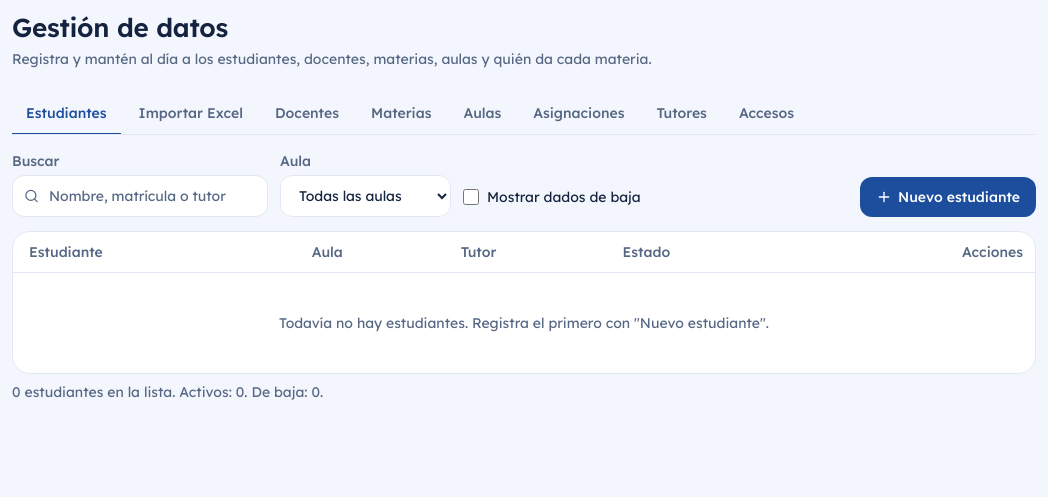
Test: Materias › muestra en cuántas aulas se da cada una y oculta las archivadas
This screenshot has width=1048, height=497.
Click the tab "Materias": x=401, y=114 [357,92,446,134]
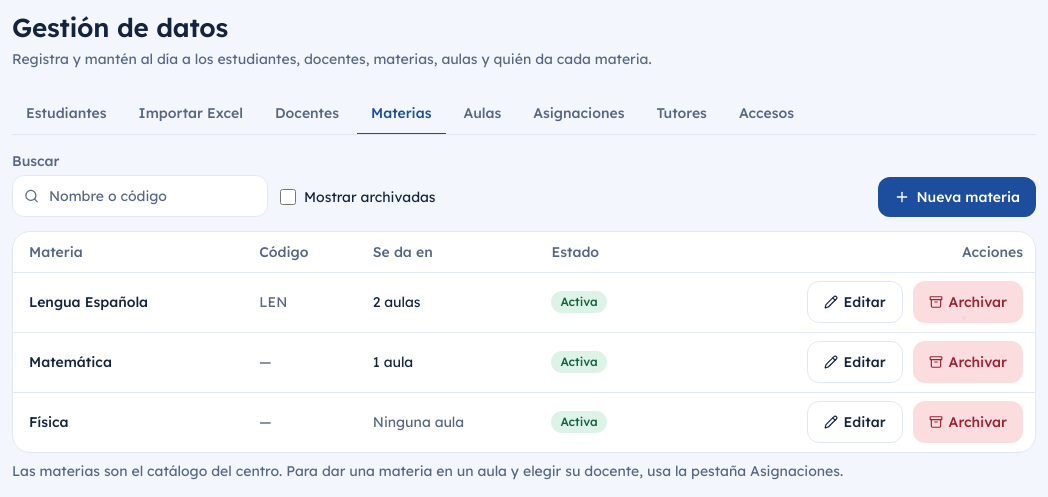
Expected: the row "Lengua Española LEN 2 aulas Activa Editar Archivar" is shown, [13,272,1035,332]
Expected: the row "Física — Ninguna aula Activa Editar Archivar" is shown, [13,392,1035,452]
